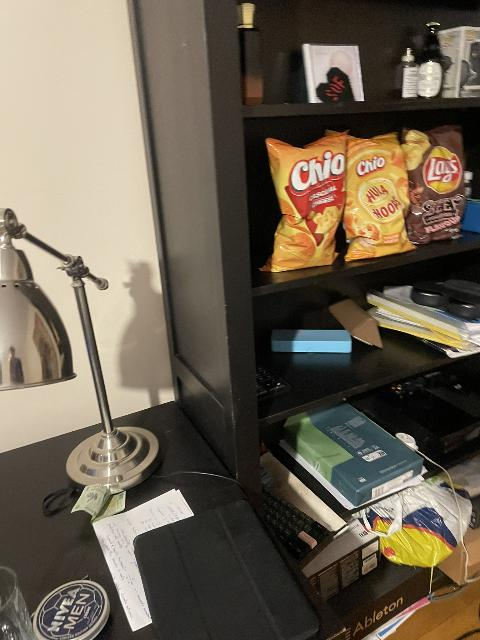Chio Cascaval 125g: (257, 131, 343, 270)
Chio Hula Hoops Cheese 70g: (341, 130, 412, 260)
Lays Beef Grilled Ribs 125g: (400, 124, 467, 247)
